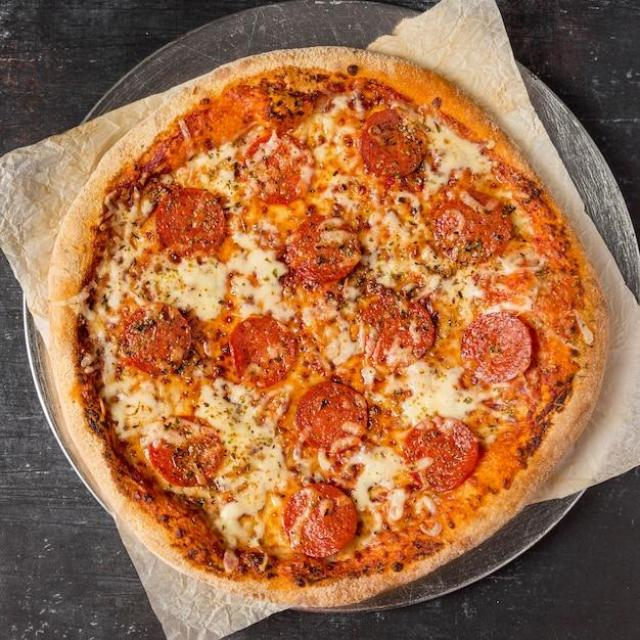pepperoni: (403, 416, 479, 492), (435, 191, 512, 265), (284, 482, 356, 558), (360, 297, 434, 369), (295, 381, 368, 452), (150, 416, 222, 485), (230, 314, 296, 388), (462, 313, 532, 382), (124, 303, 191, 375), (246, 133, 313, 204), (288, 216, 361, 280), (157, 188, 225, 256), (360, 109, 426, 177)
pizza: (47, 45, 608, 608)
